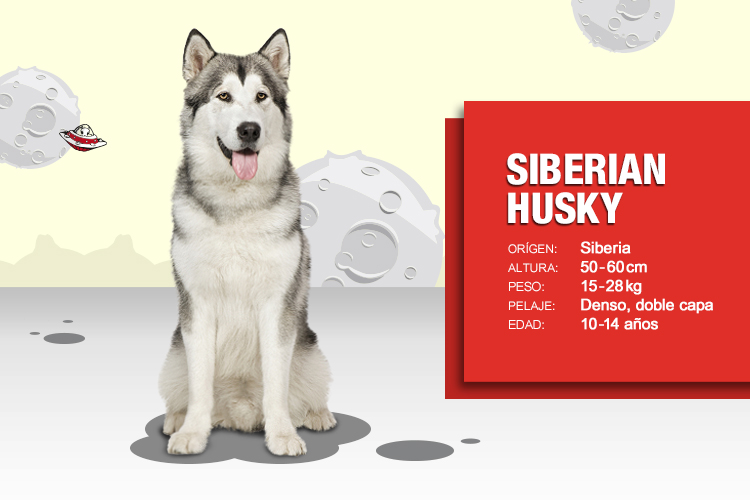husky: (163, 19, 308, 266)
